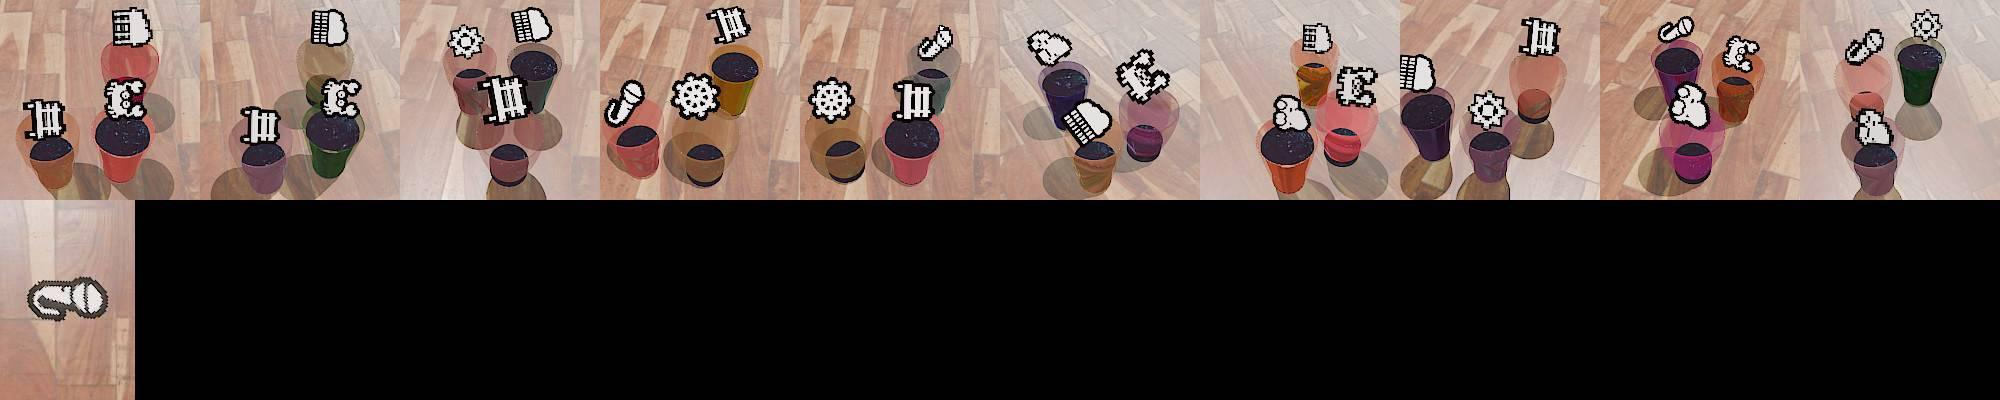icon: (24, 275, 112, 320), (1114, 48, 1169, 104), (479, 73, 532, 125), (1061, 96, 1113, 146), (669, 71, 721, 121), (806, 75, 856, 123), (21, 97, 68, 142), (604, 77, 646, 127), (102, 76, 149, 120), (1334, 64, 1379, 108), (891, 78, 936, 122), (1668, 81, 1711, 127), (319, 75, 362, 120), (237, 104, 283, 146), (1518, 16, 1562, 59), (706, 5, 752, 46), (1466, 89, 1510, 131), (111, 7, 154, 48), (1398, 52, 1438, 95), (510, 6, 553, 45), (1027, 28, 1071, 66), (1272, 93, 1312, 133), (1719, 34, 1761, 72), (915, 22, 954, 62), (310, 7, 349, 47), (446, 22, 486, 61), (1854, 108, 1894, 146), (1844, 28, 1883, 65), (1302, 21, 1335, 56), (1658, 15, 1696, 43), (1910, 10, 1944, 40)
